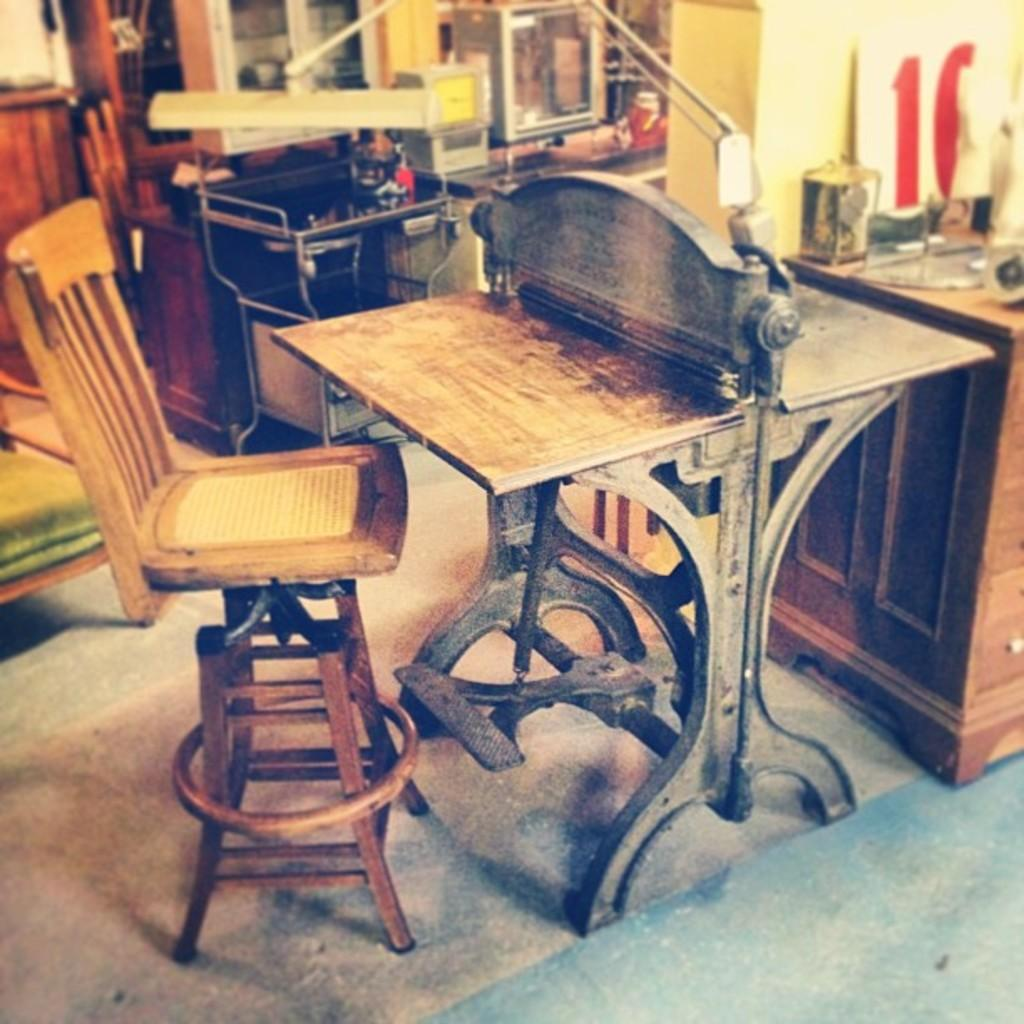Chair: (13, 241, 420, 813)
